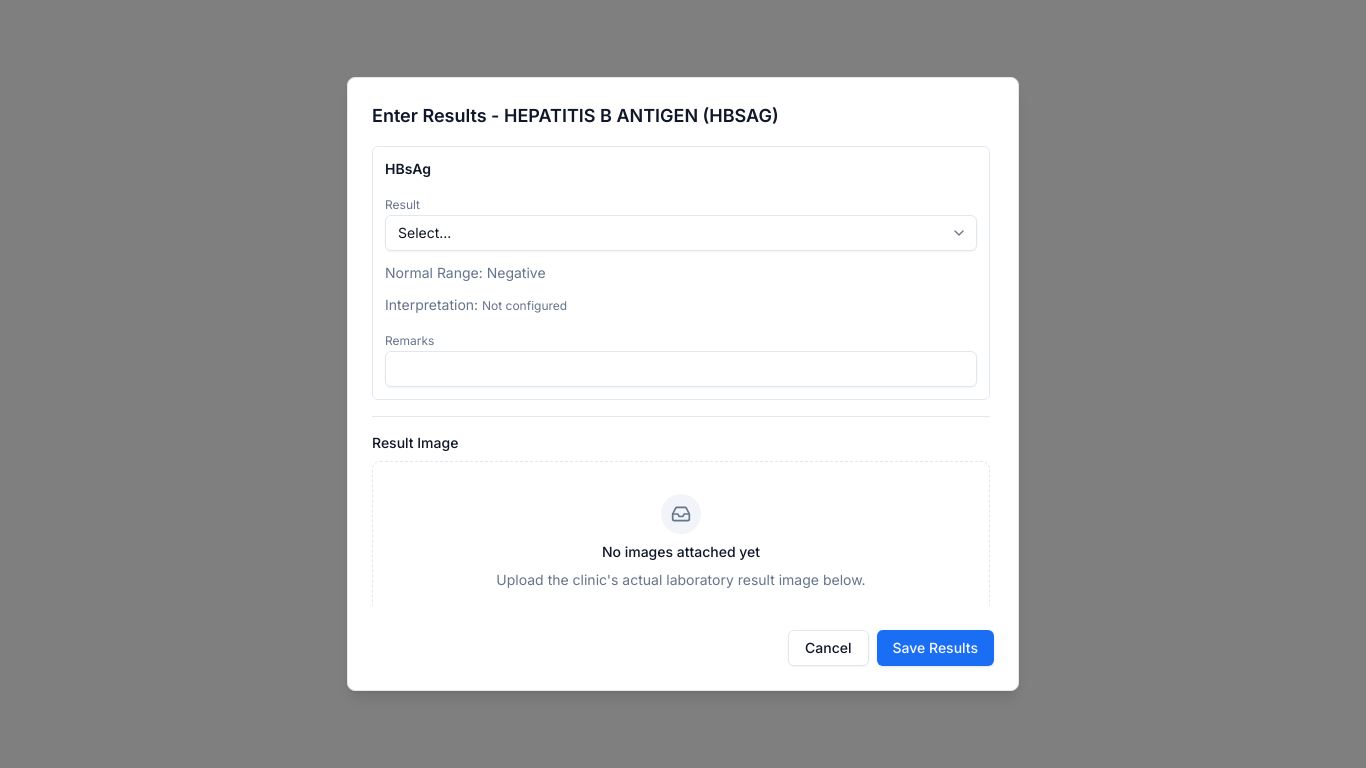
ResultEntryDialog › Qualitative/Categorical result-entry simplification (HBsAg example) › selecting Negative sets Result=Negative and auto-derives Interpretation=Normal, updating immediately on change
Select "Positive" in the dropdown at (681, 233), box [385, 215, 977, 251]
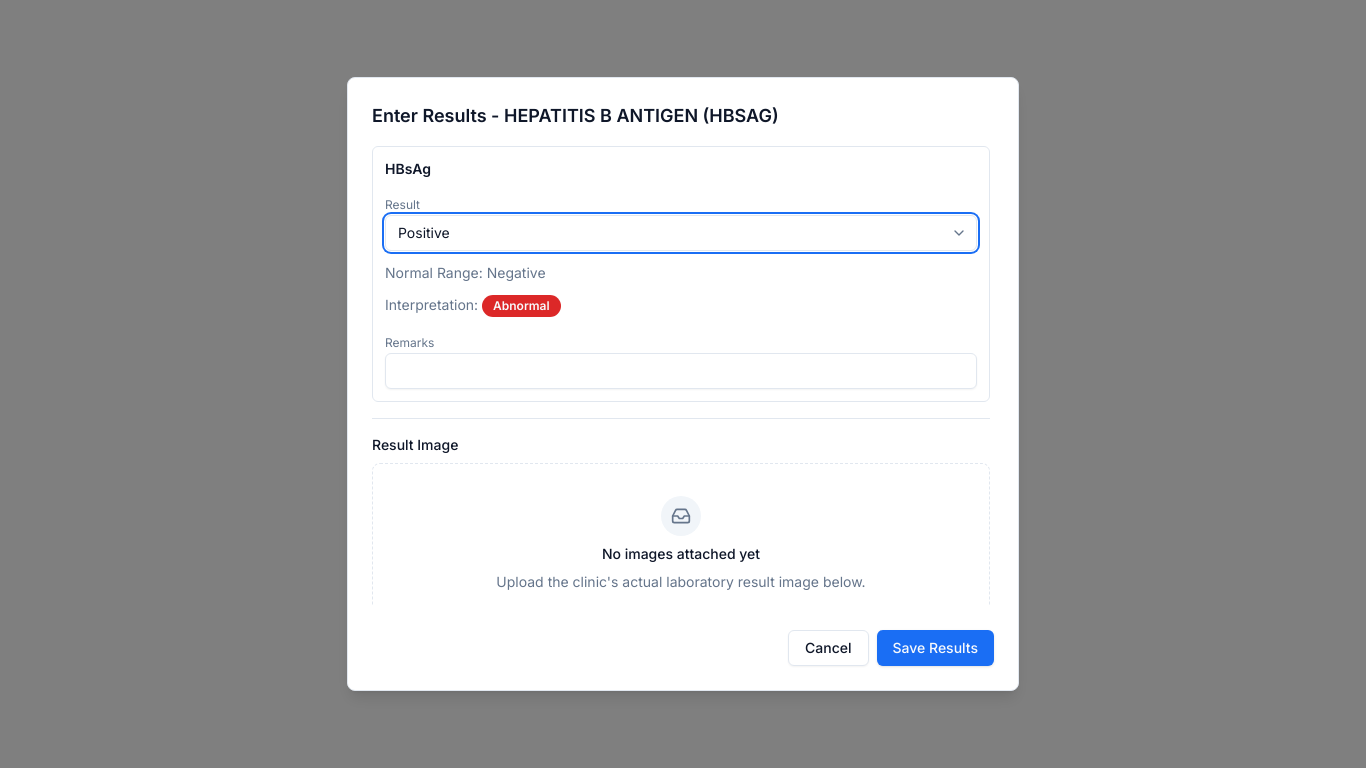
Check: the text "Abnormal" is shown, box [482, 295, 561, 317]
Select "Negative" in the dropdown at (681, 233), box [385, 215, 977, 251]
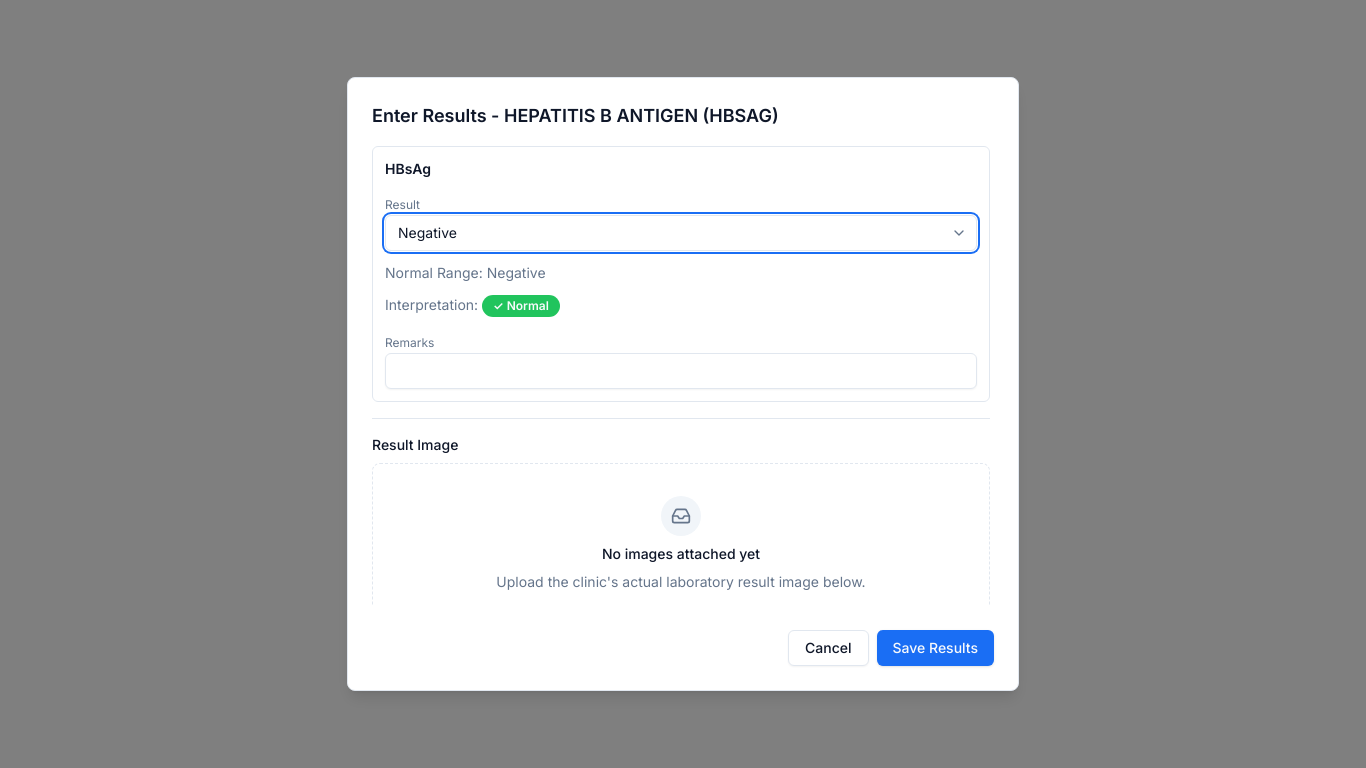
Check: the text "✓ Normal" is shown, box [482, 295, 560, 317]
